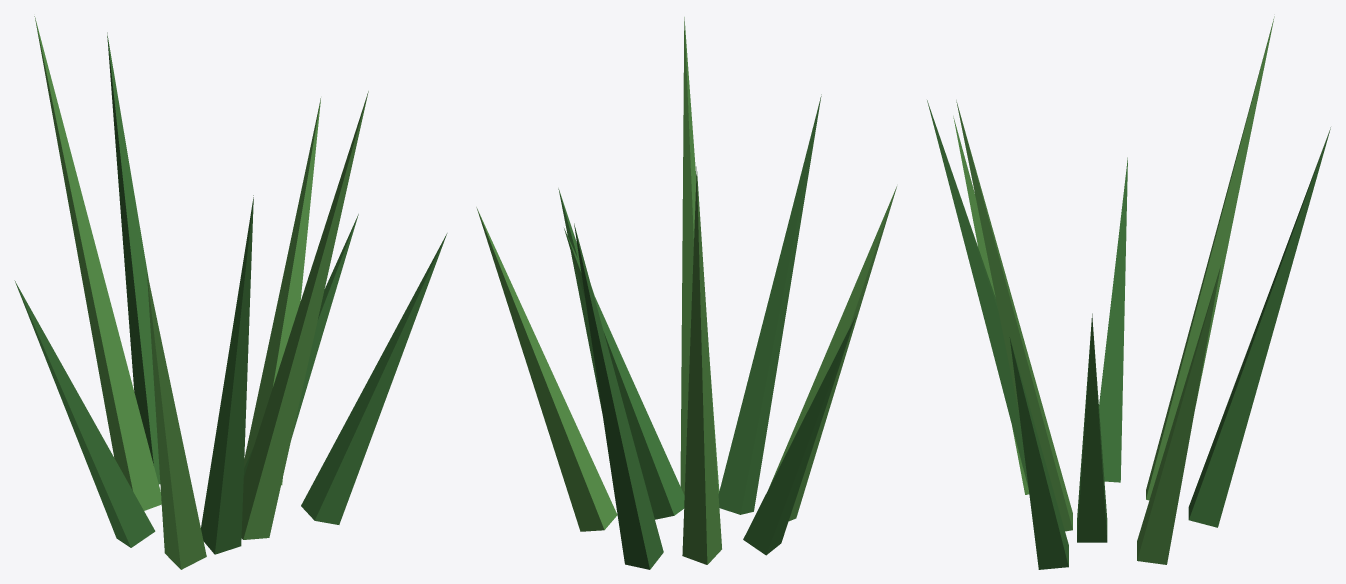
The model's file is grass_clump.glb.
3 views of the same model, side by side, from view 1: azimuth 30°, elevation 25°; view 2: azimuth 150°, elevation 25°; view 3: azimuth 270°, elevation 25° (orthographic). The views are drawn at different scales.
Visible parts, largest first — view 1: grass_clump; view 2: grass_clump; view 3: grass_clump.
Boxes of the visible parts, x1,y1,x2,y2 form: grass_clump: (14,16,447,569); grass_clump: (476,17,896,569); grass_clump: (927,16,1330,569).
Size of the model in its own units: 0.4993 by 0.5988 by 0.4721.
